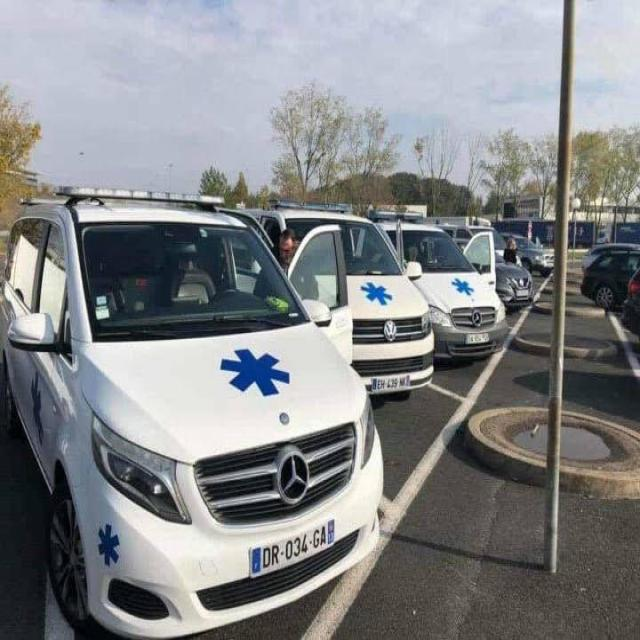ambulance: (8, 185, 386, 629)
